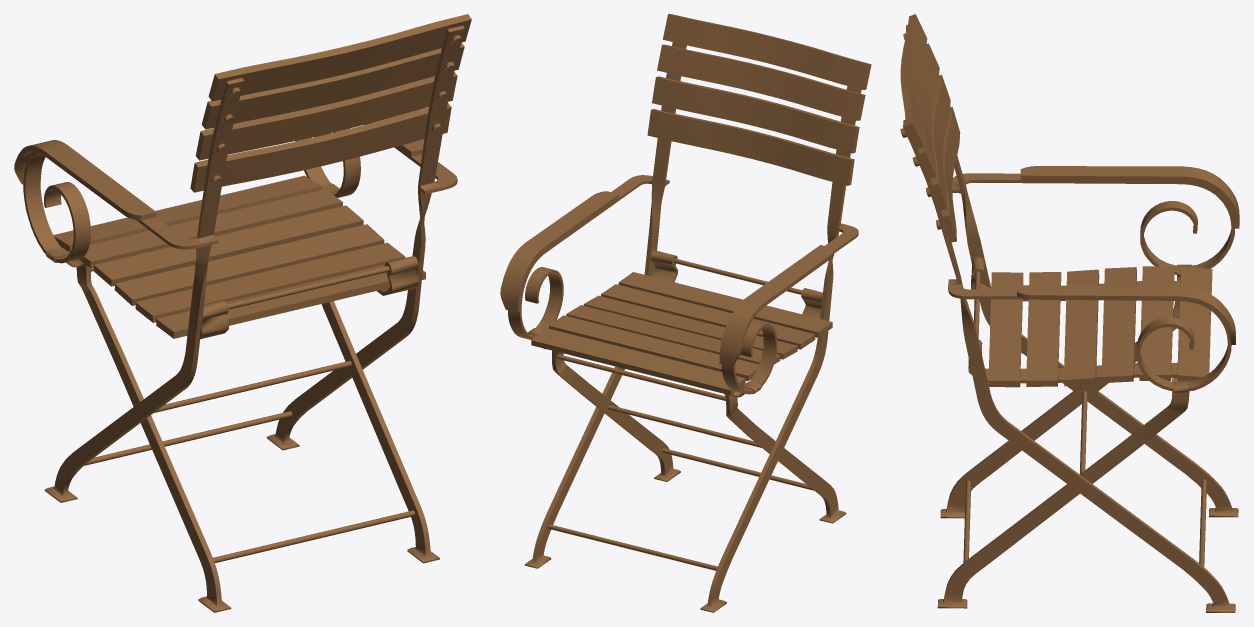
The model's file is B_CafeChair.obj.
3 renders of one model, left to right at view 1: azimuth 30°, elevation 25°; view 2: azimuth 150°, elevation 25°; view 3: azimuth 270°, elevation 25°, orthographic. The views are drawn at different scales.
Parts seen in each view (by area): view 1: B_CafeChair_m0; view 2: B_CafeChair_m0; view 3: B_CafeChair_m0.
Boxes of the visible parts, box(x1,y1,x2,y2) form: B_CafeChair_m0: box(14, 14, 471, 612); B_CafeChair_m0: box(500, 14, 871, 612); B_CafeChair_m0: box(900, 14, 1239, 612).
Bounding box in the file's own units: 0.5857 × 1.03 × 0.642.
